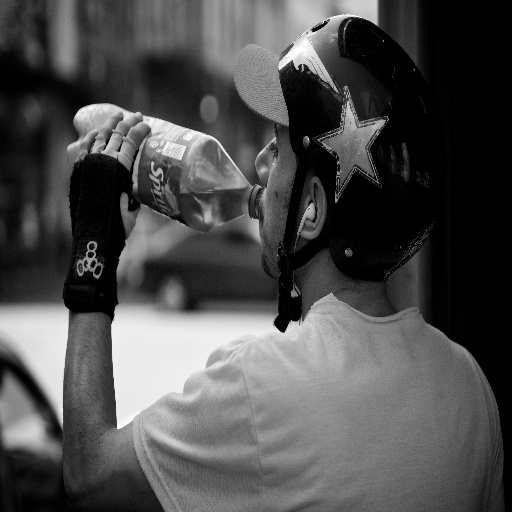hand: (54, 112, 143, 343)
